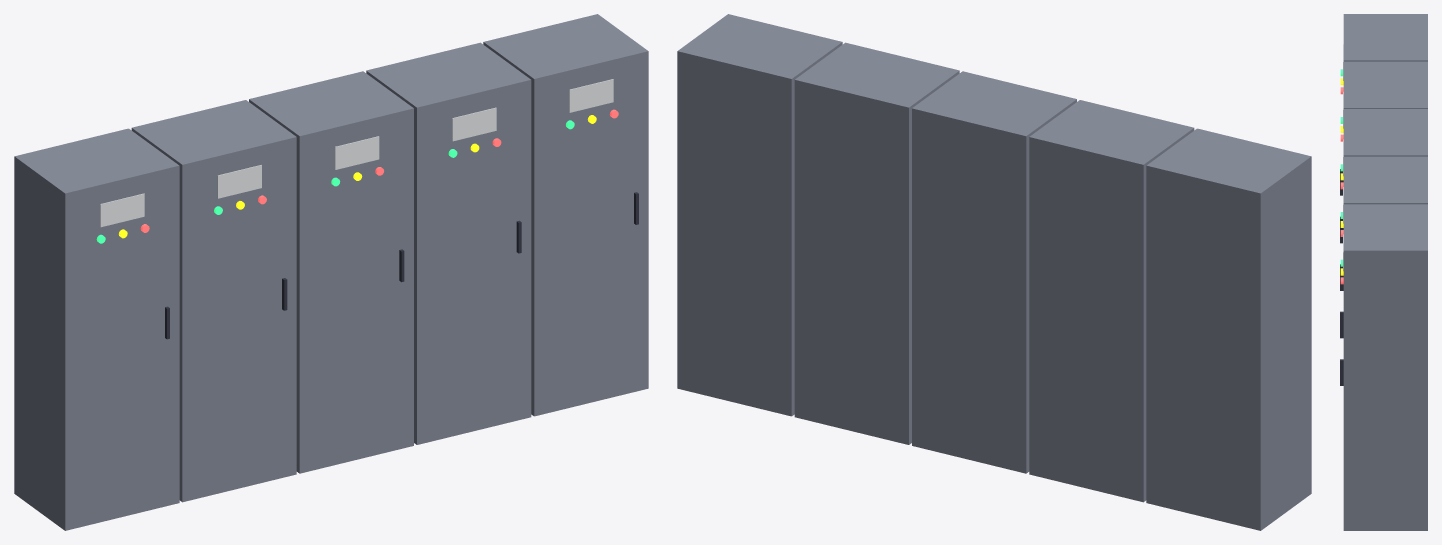
Rendered from ind-022.glb.
The picture shows the model from 3 angles, left to right: view 1: azimuth 30°, elevation 25°; view 2: azimuth 150°, elevation 25°; view 3: azimuth 270°, elevation 25°; orthographic projection. The views are drawn at different scales.
Visible parts, largest first — view 1: locker_grey, white, dark_steel; view 2: locker_grey; view 3: locker_grey, dark_steel, white, status_red, trace_resp.
Boxes of the visible parts, x1,y1,x2,y2 form: locker_grey: (14,14,648,530); white: (100,79,613,227); dark_steel: (165,192,638,339); locker_grey: (677,14,1311,530); locker_grey: (1343,14,1427,530); dark_steel: (1340,169,1343,385); white: (1343,44,1343,271); status_red: (1340,87,1343,284); trace_resp: (1340,78,1343,275).
Size of the model in its own units: 3.98 by 2.2 by 0.625.
